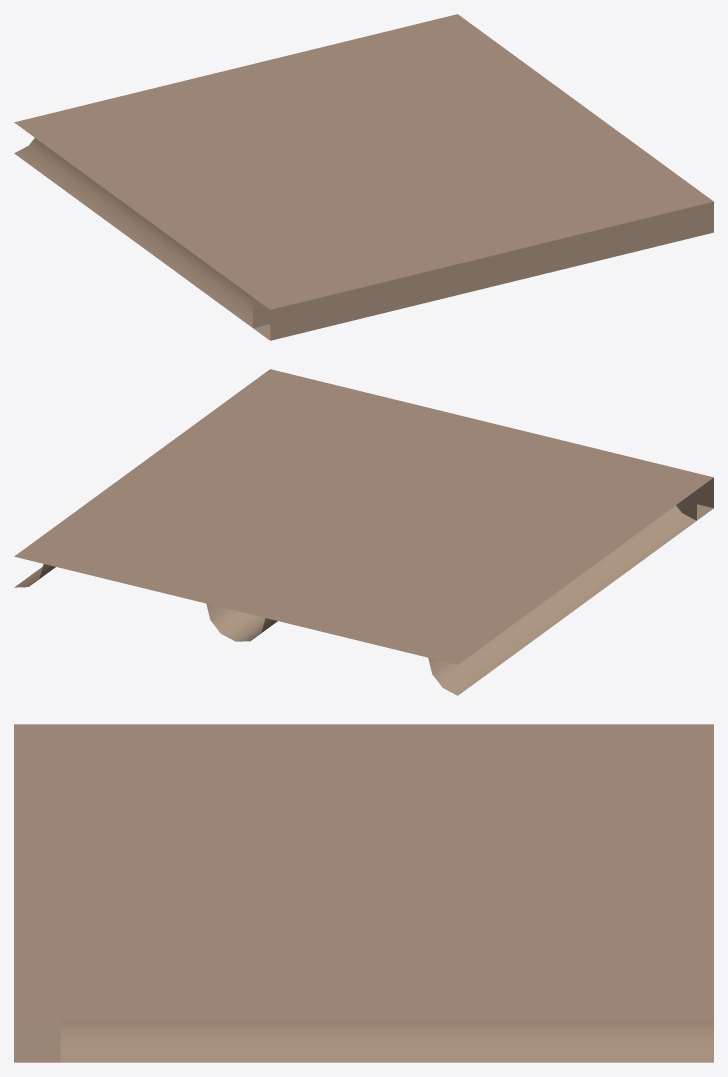
File: tav_roof.fbx
3 renders of one model, top to bottom at view 1: azimuth 30°, elevation 25°; view 2: azimuth 150°, elevation 25°; view 3: azimuth 270°, elevation 25°, orthographic. The views are drawn at different scales.
Visible parts, largest first — view 1: tav_roofplane, tav_rafter; view 2: tav_roofplane, tav_rafter; view 3: tav_roofplane, tav_rafter.
Boxes of the visible parts, x1,y1,x2,y2 form: tav_roofplane: (14, 14, 713, 309); tav_rafter: (14, 138, 713, 340); tav_roofplane: (14, 369, 713, 664); tav_rafter: (14, 477, 713, 695); tav_roofplane: (14, 724, 713, 1020); tav_rafter: (14, 1020, 713, 1062).
Size of the model in its own units: 300 by 20 by 300.
